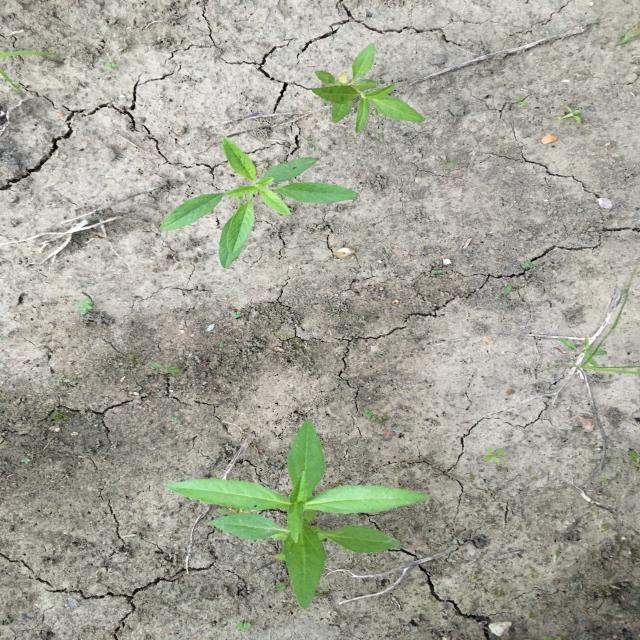Eclipta: (162, 417, 434, 611), (309, 42, 427, 135)
Waterhemp: (157, 137, 361, 270)
